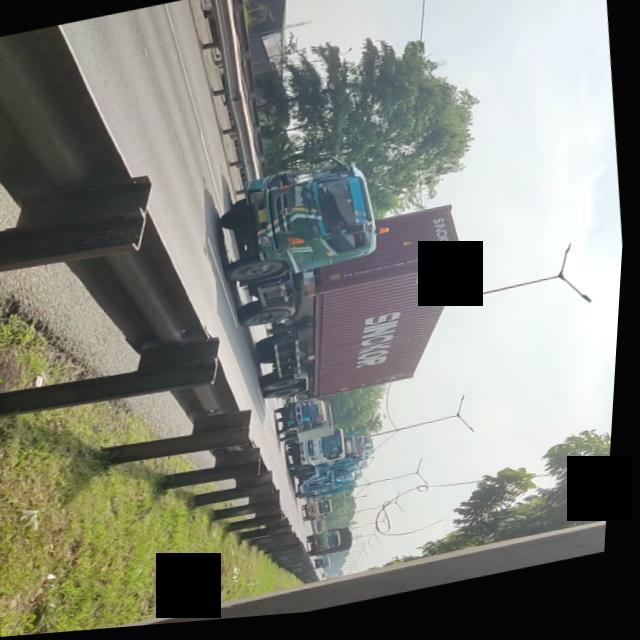Golongan IV: (203, 157, 461, 422)
